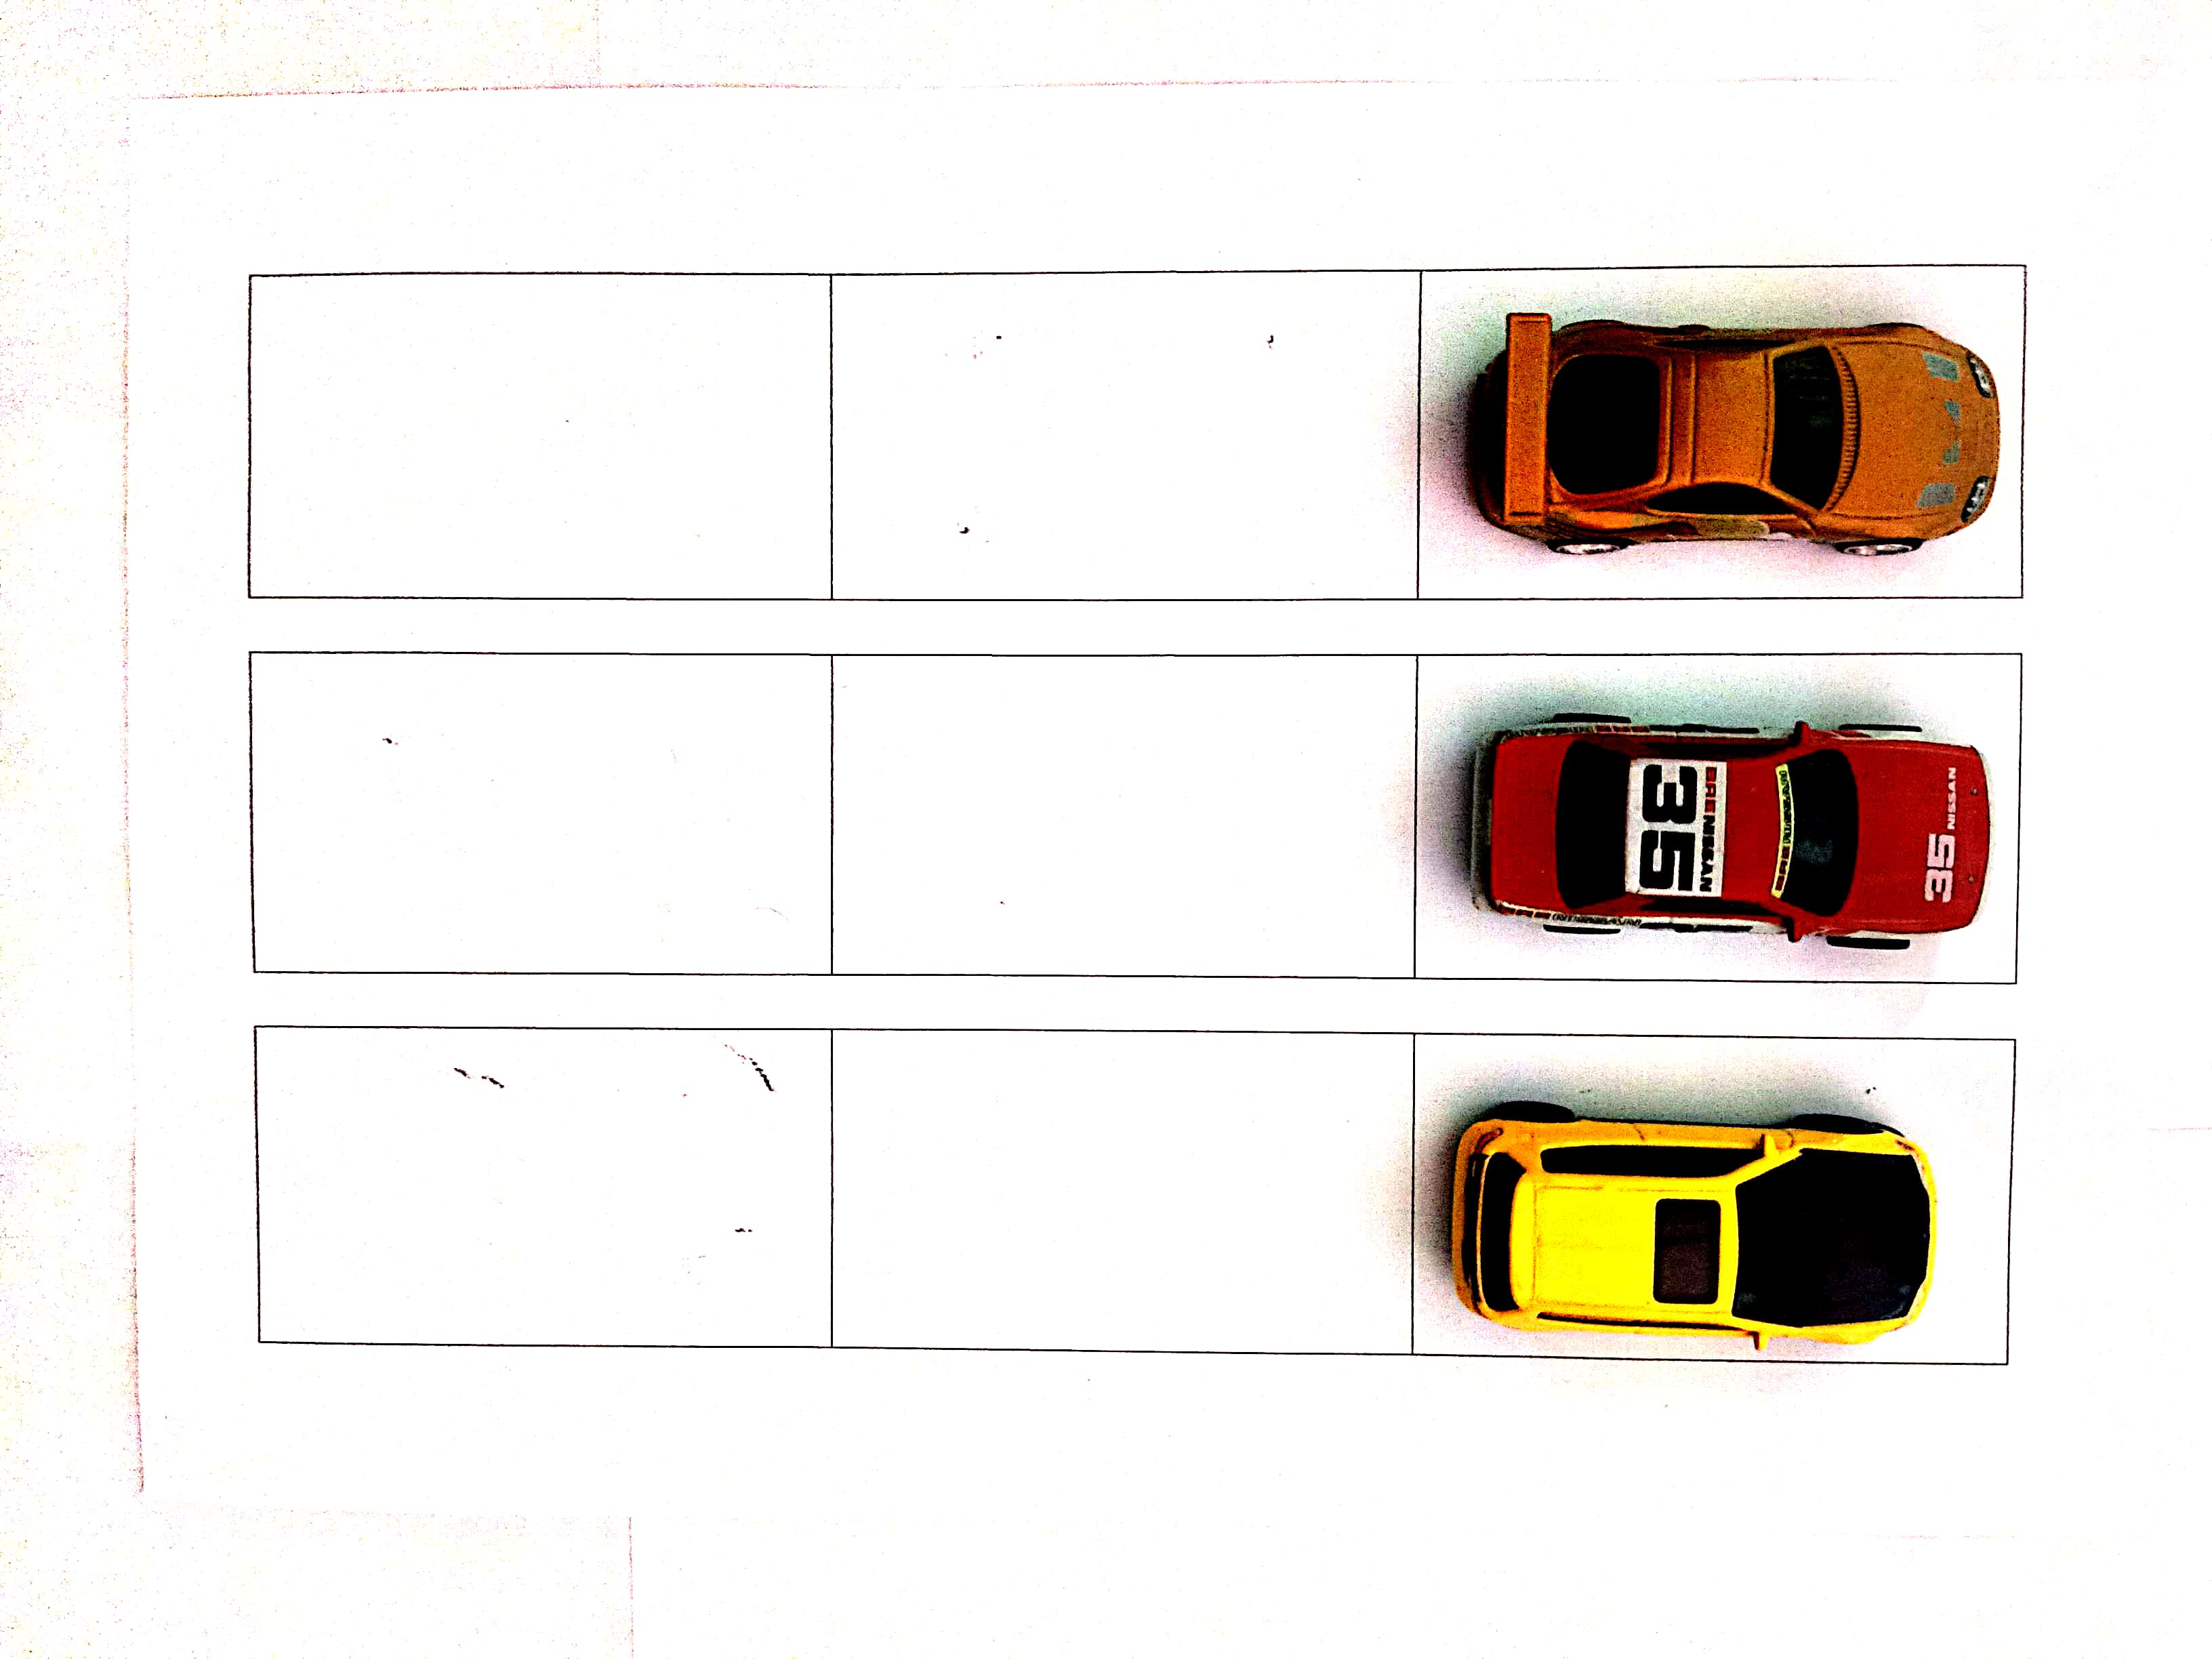Busy: (1418, 268, 2026, 601), (1418, 653, 2019, 981), (1413, 1040, 2008, 1352)
Free: (829, 274, 1418, 596), (824, 1030, 1413, 1352), (247, 277, 827, 596), (833, 653, 1421, 967), (253, 653, 829, 971), (258, 1033, 827, 1351)
